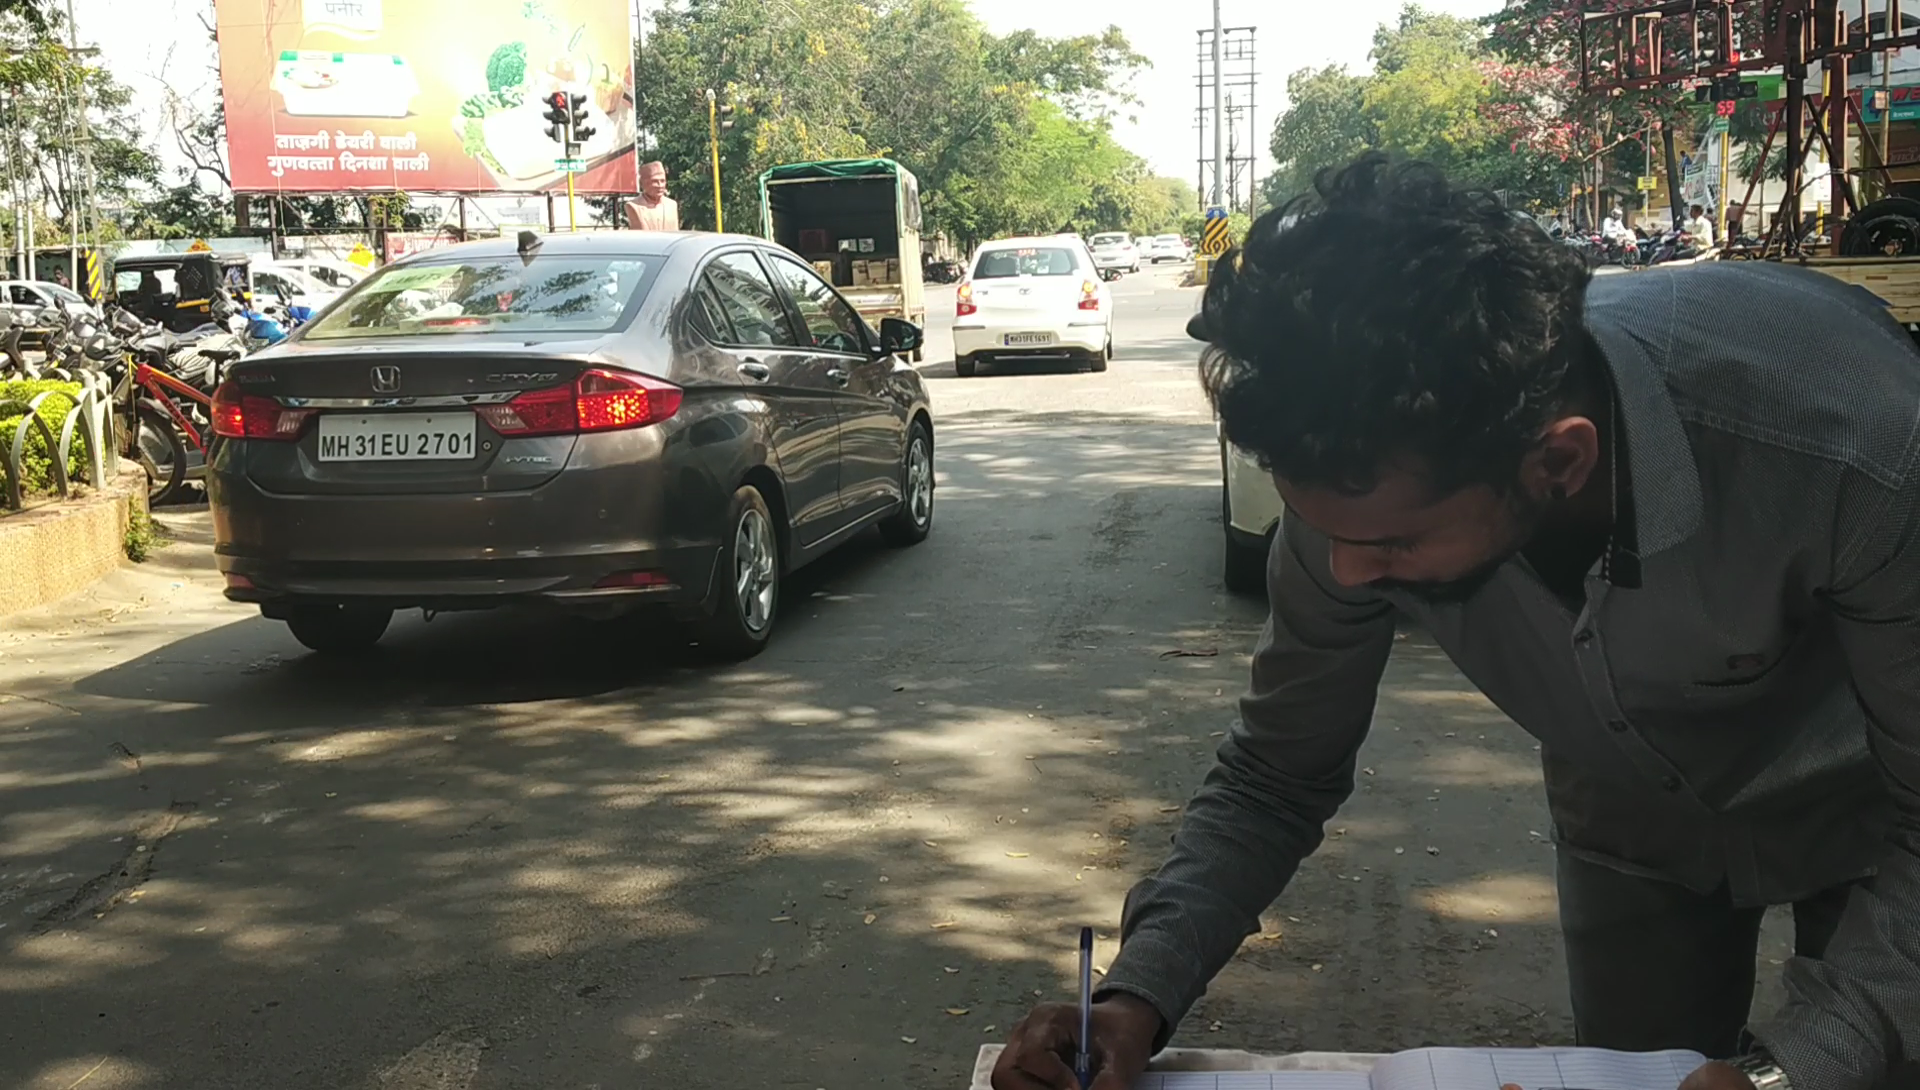car: (170, 228, 952, 688)
numplate: (312, 412, 480, 460)
